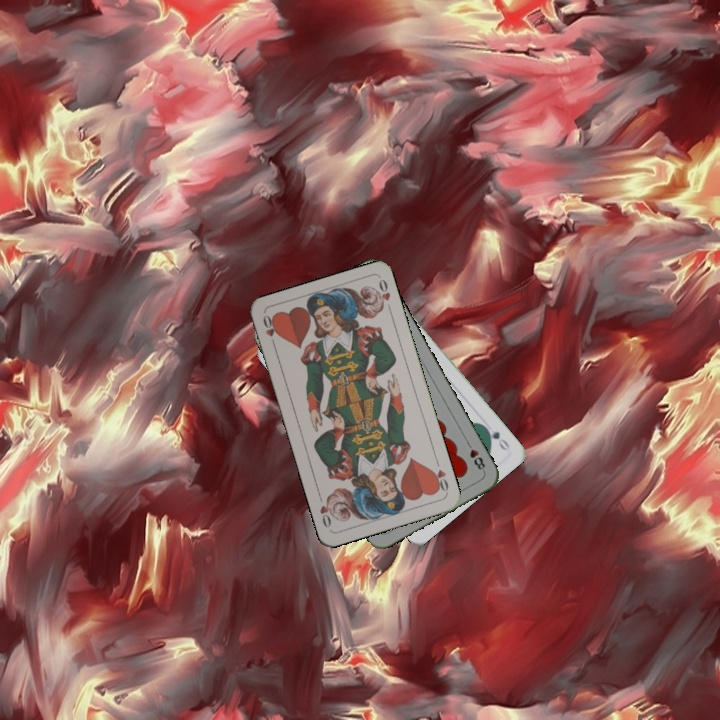GO: (479, 421, 512, 453)
H8: (462, 437, 488, 474)
HO: (428, 455, 451, 495), (259, 311, 280, 351)
